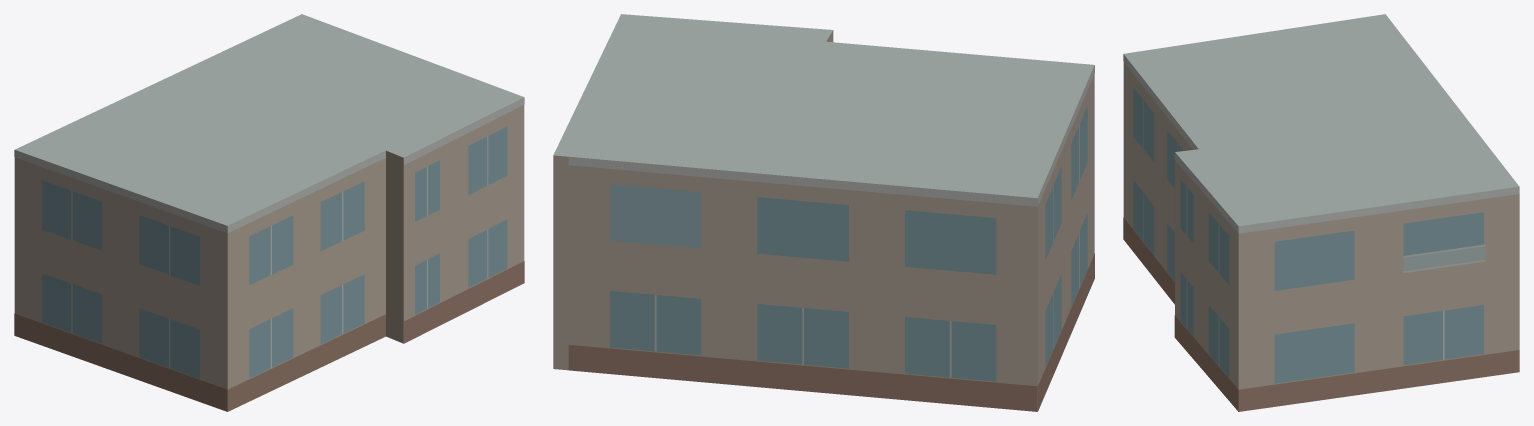
File: survey-upis-32792062.glb
The picture shows the model from 3 angles, left to right: view 1: azimuth 30°, elevation 25°; view 2: azimuth 150°, elevation 25°; view 3: azimuth 270°, elevation 25°; orthographic projection. The views are drawn at different scales.
Parts seen in each view (by area): view 1: survey-upis-32792062.tmp; view 2: survey-upis-32792062.tmp; view 3: survey-upis-32792062.tmp.
Boxes of the visible parts, x1=… form: survey-upis-32792062.tmp: x1=14, y1=14, x2=524, y2=411; survey-upis-32792062.tmp: x1=553, y1=14, x2=1094, y2=411; survey-upis-32792062.tmp: x1=1123, y1=14, x2=1519, y2=411.
Bounding box in the file's own units: 14.99 × 6.1 × 11.81.
